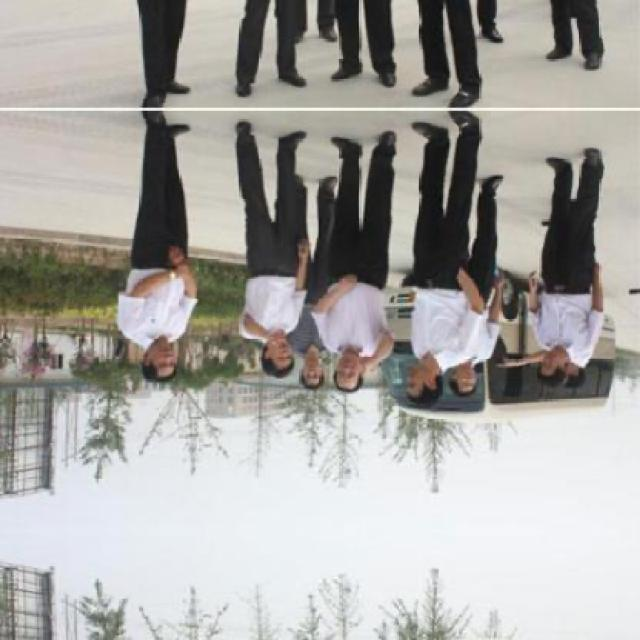sin casco: (522, 340, 588, 397), (316, 347, 379, 401), (132, 339, 185, 398), (398, 358, 452, 409), (430, 358, 486, 401), (252, 350, 301, 388), (294, 358, 332, 394)
